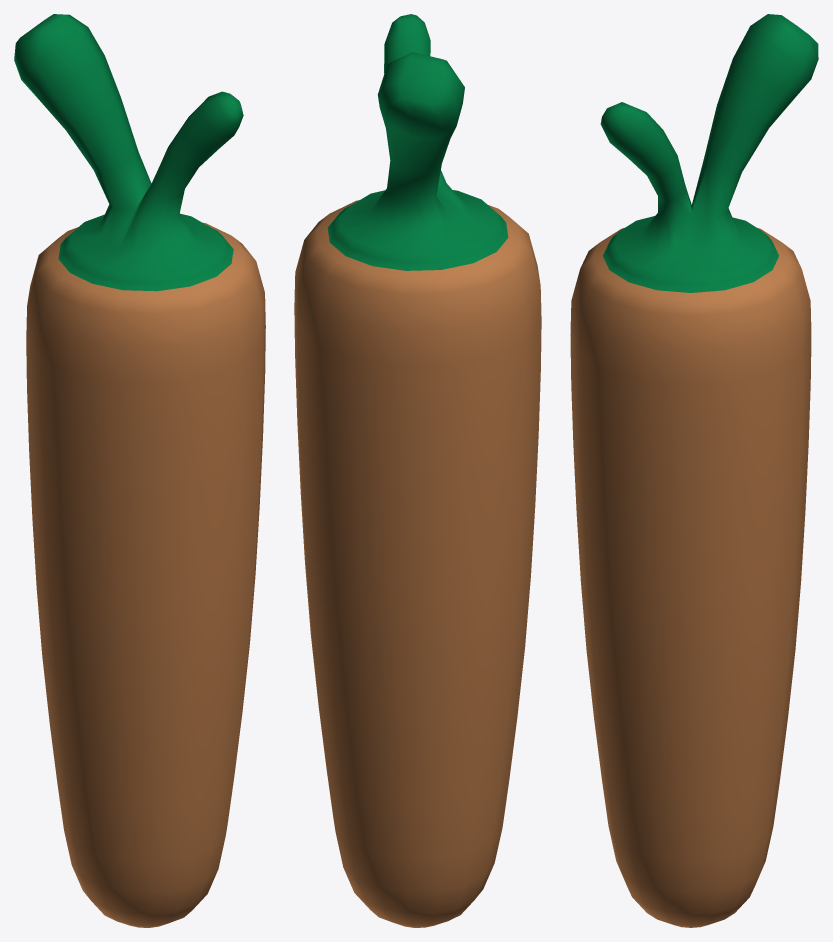
Rendered from carrot.fbx.
3 views of the same model, side by side, from view 1: azimuth 30°, elevation 25°; view 2: azimuth 150°, elevation 25°; view 3: azimuth 270°, elevation 25° (orthographic). The views are drawn at different scales.
Visible parts, largest first — view 1: carrot; view 2: carrot; view 3: carrot.
Boxes of the visible parts, <box> form: carrot: <box>14,14,265,927</box>; carrot: <box>294,14,541,927</box>; carrot: <box>570,14,818,927</box>.
Bounding box in the file's own units: 42.39 × 172 × 43.62.
